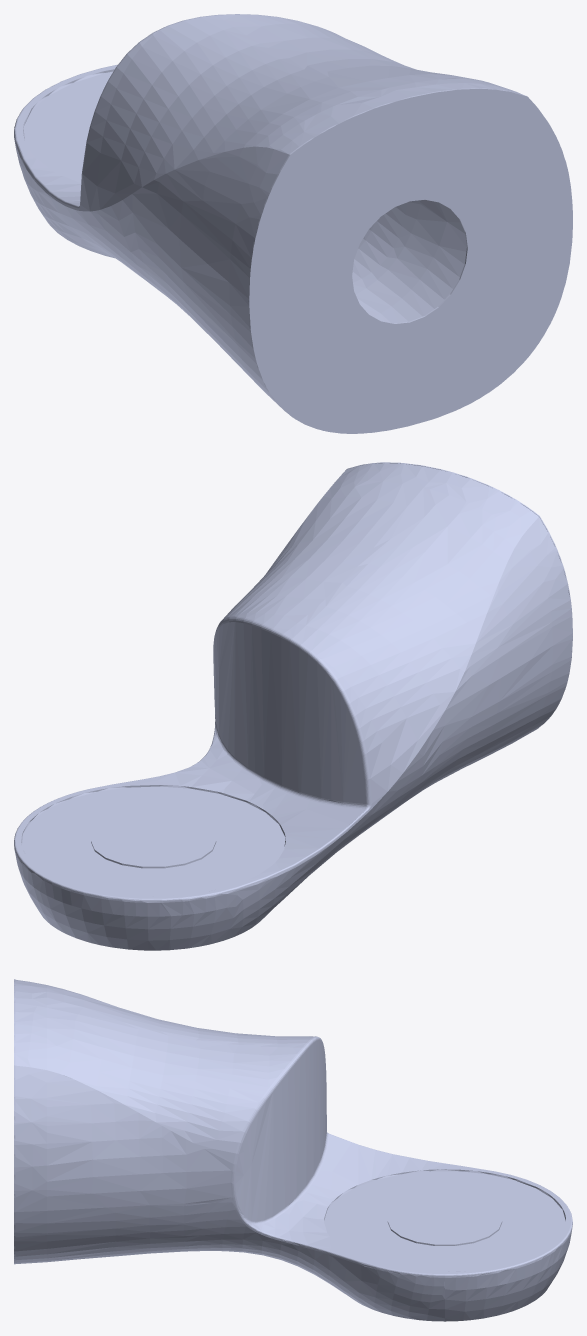
The model's file is right_shoulder_yaw_link.dae.
The picture shows the model from 3 angles, top to bottom: view 1: azimuth 30°, elevation 25°; view 2: azimuth 150°, elevation 25°; view 3: azimuth 270°, elevation 25°; orthographic projection. The views are drawn at different scales.
Visible parts, largest first — view 1: right_shoulder_yaw_link; view 2: right_shoulder_yaw_link; view 3: right_shoulder_yaw_link.
Part boxes in pixels (box(x1,y1,x2,y2)): right_shoulder_yaw_link: box(14, 14, 572, 433); right_shoulder_yaw_link: box(14, 462, 572, 950); right_shoulder_yaw_link: box(14, 979, 572, 1321).
Size of the model in its own units: 0.0942 by 0.0805 by 0.1631.
